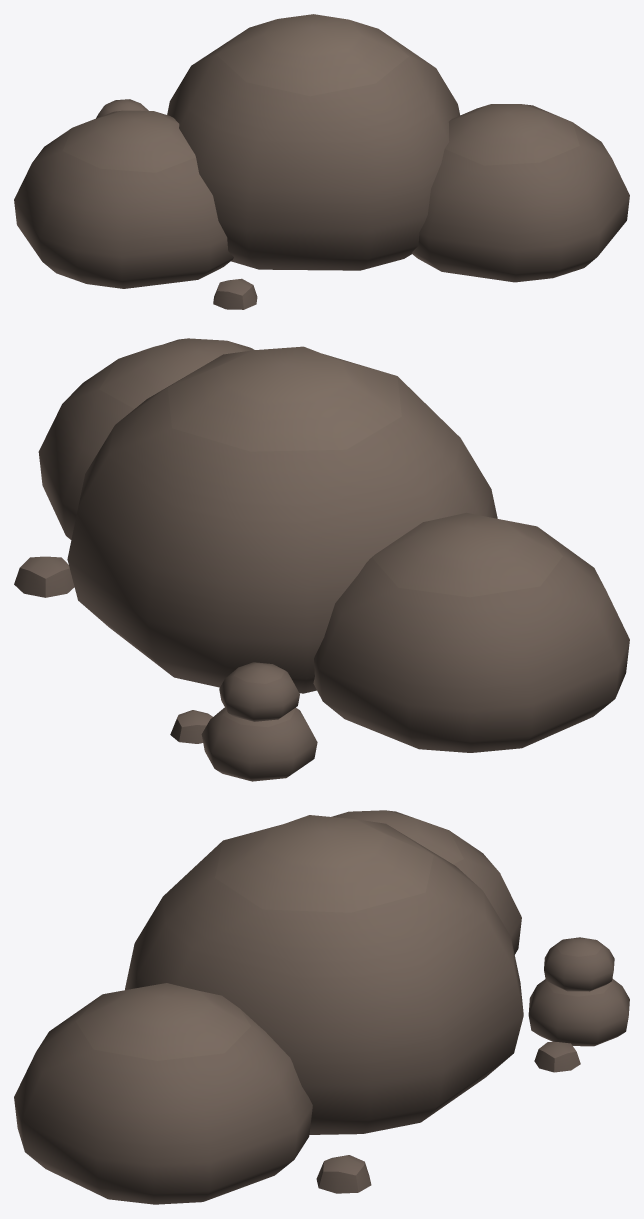
The model's file is Rock_5_G_Color6.fbx.
3 views of the same model, one above another, from view 1: azimuth 30°, elevation 25°; view 2: azimuth 150°, elevation 25°; view 3: azimuth 270°, elevation 25° (orthographic). The views are drawn at different scales.
Visible parts, largest first — view 1: Rock_5_G_Color6; view 2: Rock_5_G_Color6; view 3: Rock_5_G_Color6.
Part boxes in pixels (left/top/right/bottom): Rock_5_G_Color6: left=14, top=14, right=629, bottom=309; Rock_5_G_Color6: left=14, top=338, right=629, bottom=781; Rock_5_G_Color6: left=14, top=810, right=629, bottom=1204.
Bounding box in the file's own units: 2.35 × 0.9346 × 2.05.
